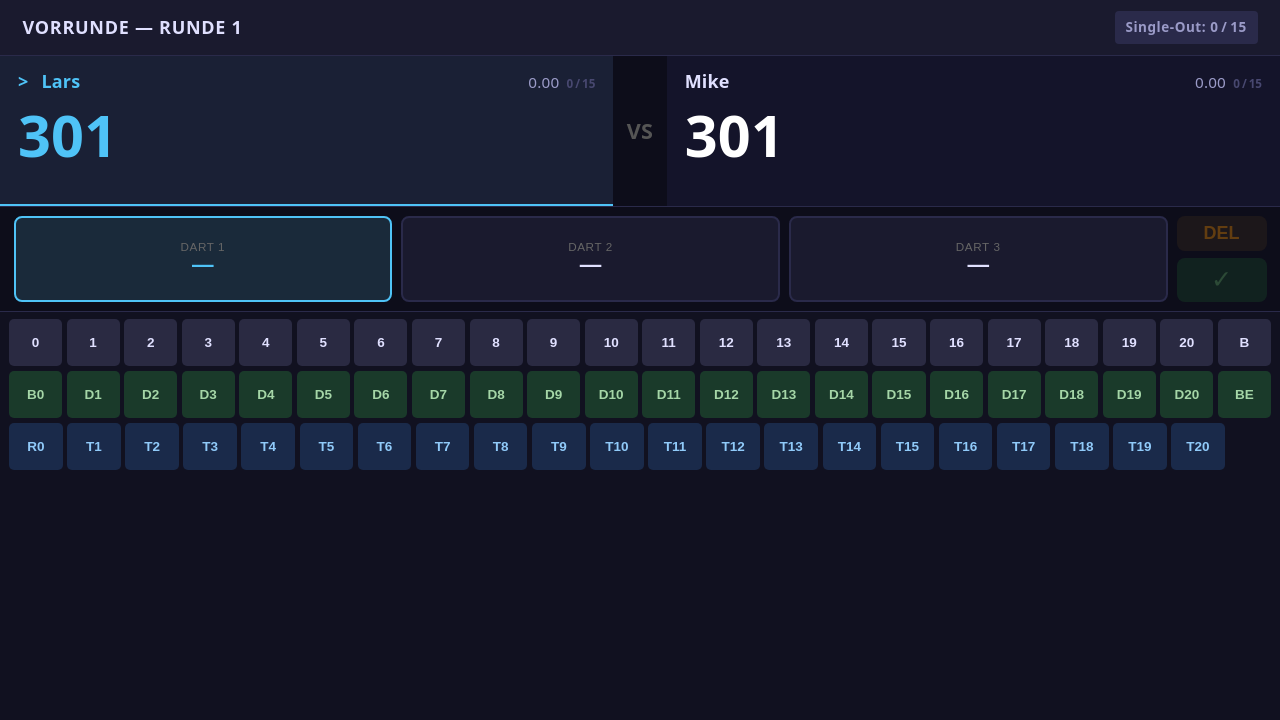
Scenario: ScoreEntryScreen › shows BUST special event popup when recordVisit returns is_bust=true with bust event
Check: the button "DEL" is shown, box x1=1176 y1=216 x2=1266 y2=251
Click the button "T20" at x=1198, y=446, box x1=1171 y1=423 x2=1225 y2=470
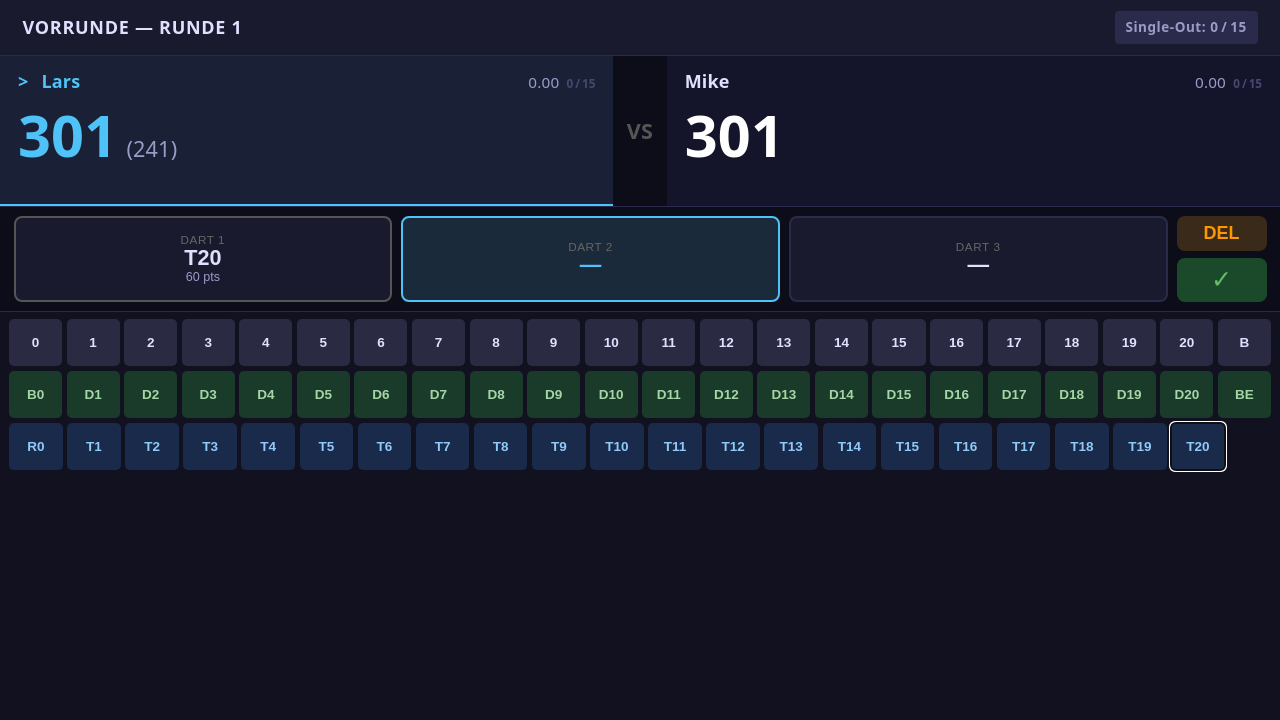
Click the button "✓" at x=1222, y=280, box x1=1176 y1=258 x2=1266 y2=302
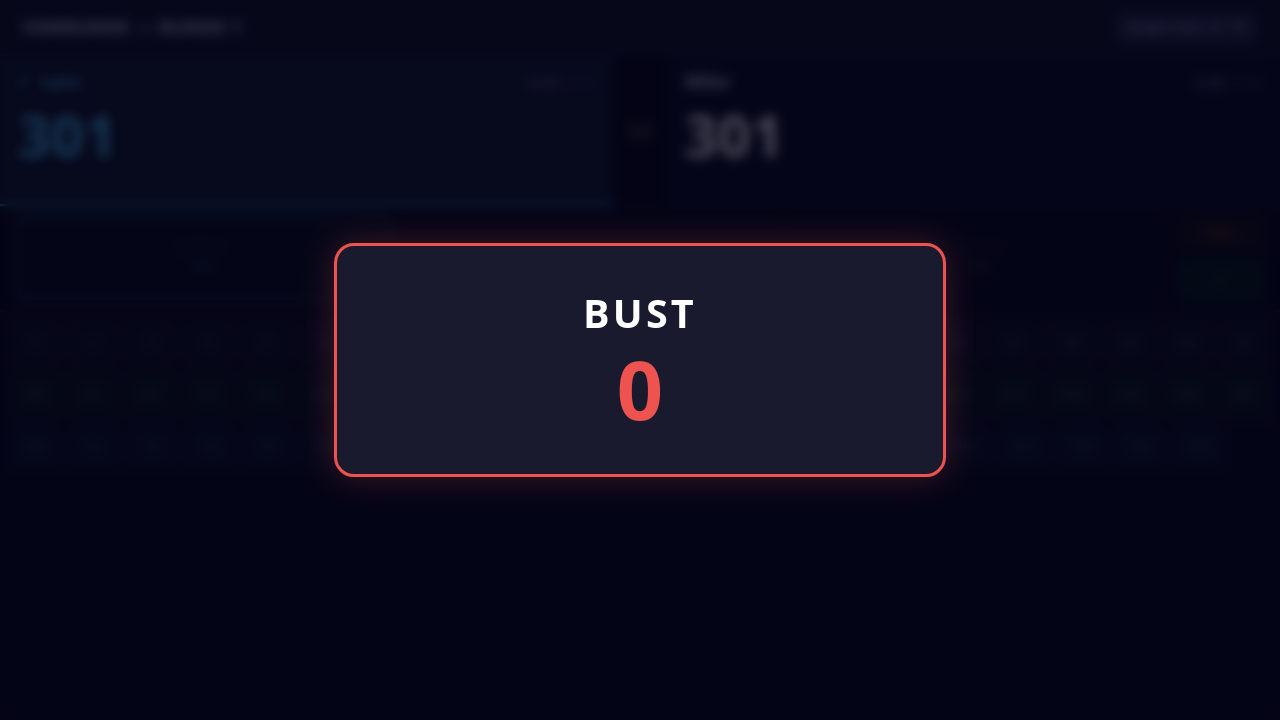
Check: the text "BUST" is shown, box x1=583 y1=291 x2=697 y2=336
